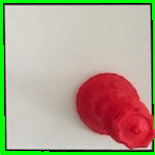Red Queen: (73, 69, 155, 150)
